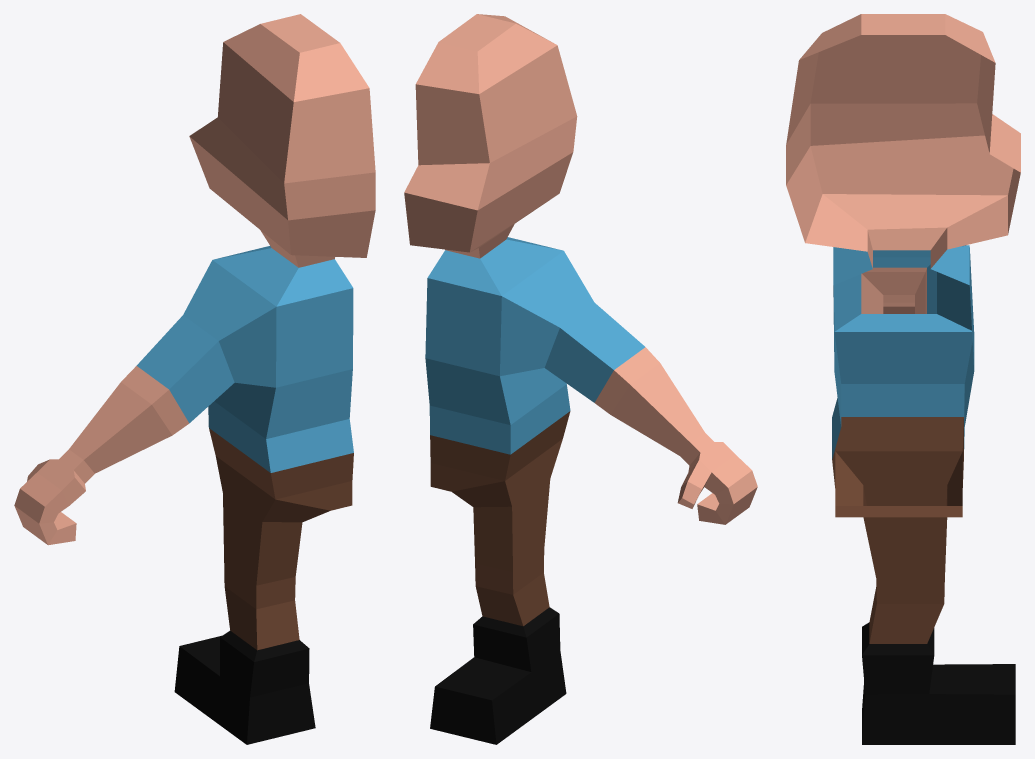
The model's file is BaseCharacter.glb.
The picture shows the model from 3 angles, left to right: view 1: azimuth 30°, elevation 25°; view 2: azimuth 150°, elevation 25°; view 3: azimuth 270°, elevation 25°; orthographic projection. The views are drawn at different scales.
Visible parts, largest first — view 1: Base Body 1; view 2: Base Body 1; view 3: Base Body 1.
Boxes of the visible parts, x1,y1,x2,y2 form: Base Body 1: (14, 14, 375, 744); Base Body 1: (404, 14, 757, 744); Base Body 1: (786, 14, 1020, 744).
Bounding box in the file's own units: 0.7678 × 1.69 × 0.4963.
1 material, 1 textured.
